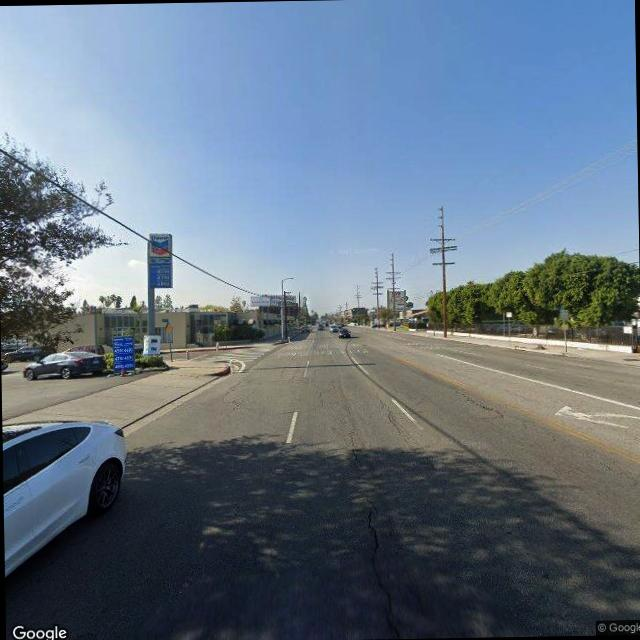pothole: (355, 494, 407, 638), (453, 382, 506, 422), (373, 392, 406, 442), (342, 424, 360, 466)
